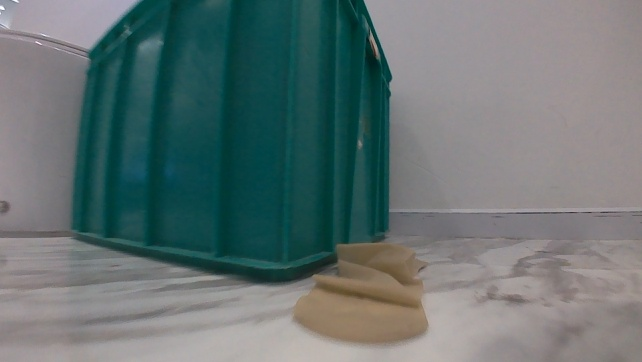socks: (290, 239, 430, 344)
toilet: (0, 22, 91, 235)
